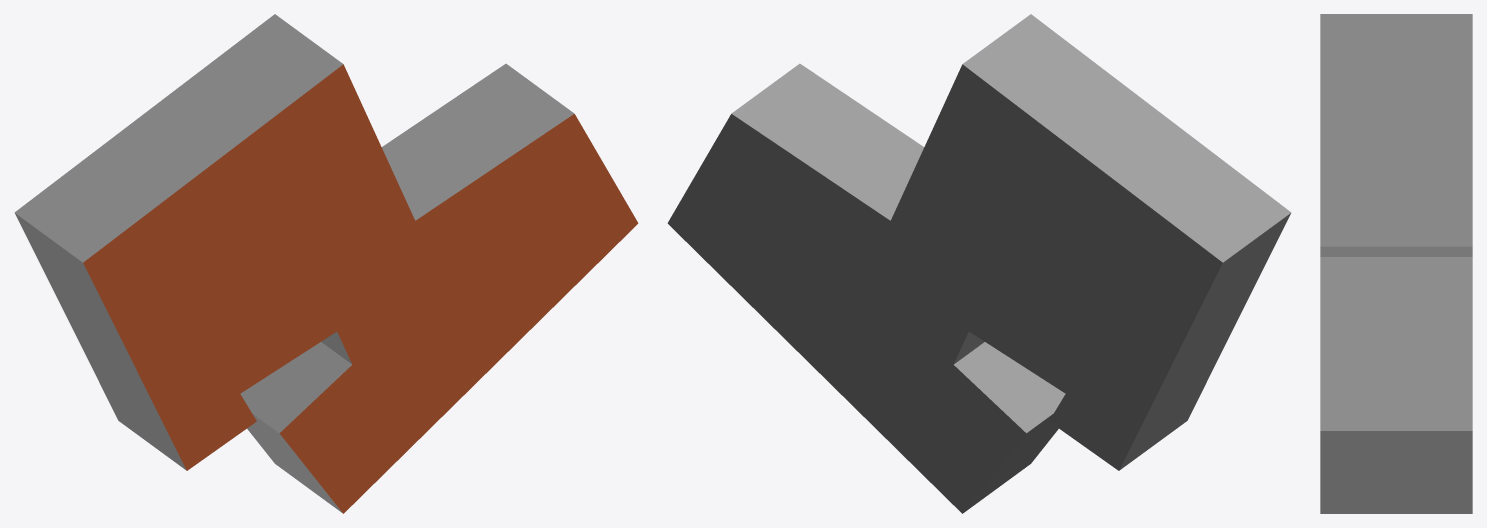
The model's file is construction_4712_assumed_A_Casa_h6m.obj.
The picture shows the model from 3 angles, left to right: view 1: azimuth 30°, elevation 25°; view 2: azimuth 150°, elevation 25°; view 3: azimuth 270°, elevation 25°; orthographic projection. The views are drawn at different scales.
Parts seen in each view (by area): view 1: construction_4712_assumed_A_Casa; view 2: construction_4712_assumed_A_Casa; view 3: construction_4712_assumed_A_Casa.
Part boxes in pixels (x1,y1,x2,y2): construction_4712_assumed_A_Casa: (14, 14, 638, 513); construction_4712_assumed_A_Casa: (667, 14, 1291, 513); construction_4712_assumed_A_Casa: (1320, 14, 1472, 513).
Size of the model in its own units: 28.06 by 21.71 by 6.
